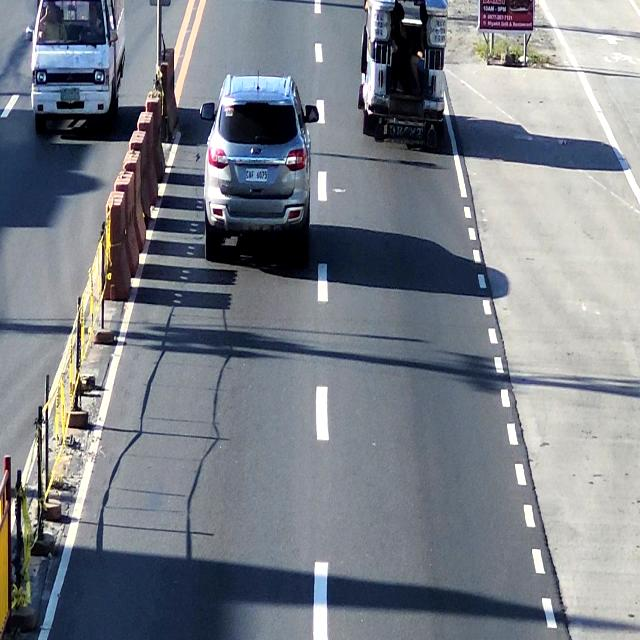Car: (206, 75, 312, 265)
Jeep: (362, 0, 443, 144)
License-Plate: (243, 162, 268, 185), (59, 86, 81, 100)
